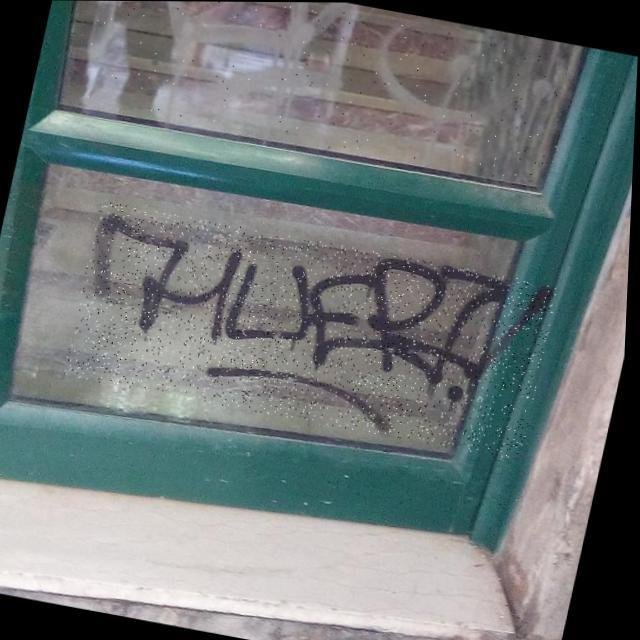-: (62, 200, 564, 460), (67, 1, 573, 186)
